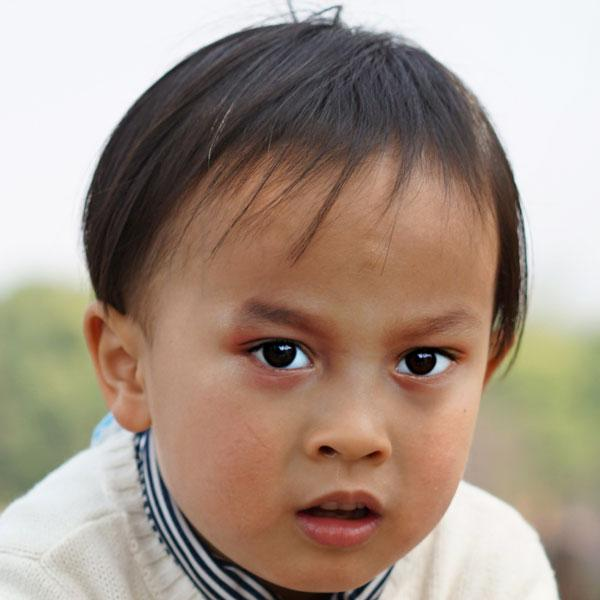Eyes: (230, 318, 321, 388), (380, 334, 465, 391)
